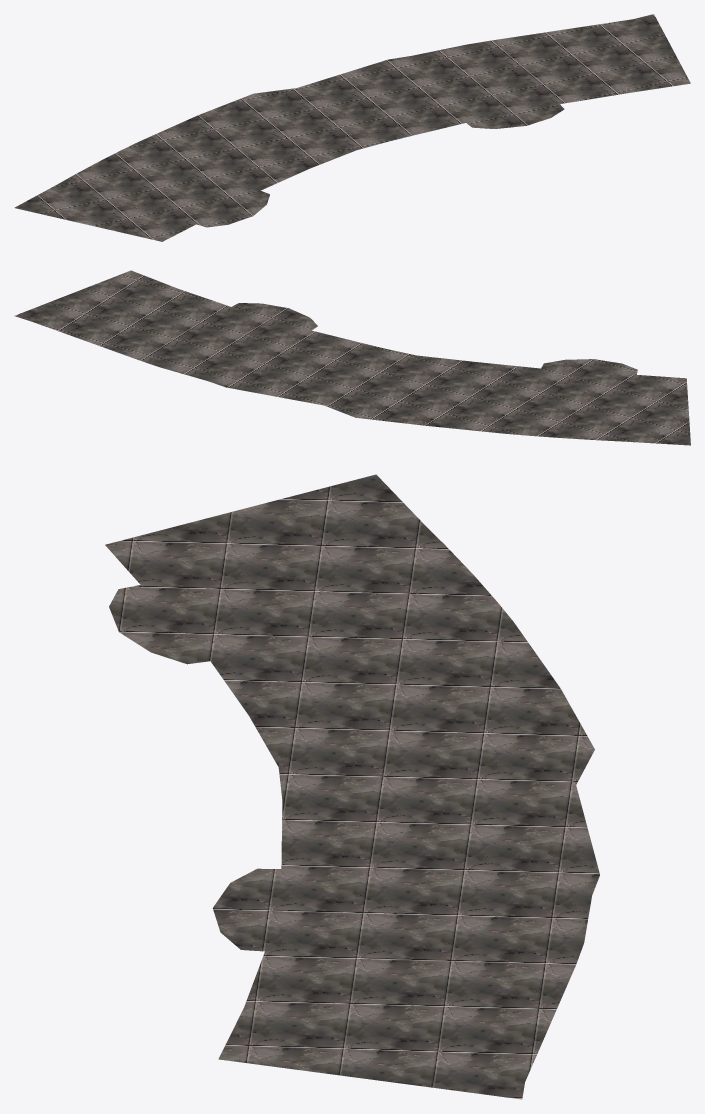
File: CH09_SMAUG_PLAYSURFACE_LAIR114.fbx
3 renders of one model, top to bottom at view 1: azimuth 30°, elevation 25°; view 2: azimuth 150°, elevation 25°; view 3: azimuth 270°, elevation 25°, orthographic. The views are drawn at different scales.
Visible parts, largest first — view 1: CH09_SMAUG_PLAYSURFACE_LAIR114; view 2: CH09_SMAUG_PLAYSURFACE_LAIR114; view 3: CH09_SMAUG_PLAYSURFACE_LAIR114.
Part boxes in pixels (left/top/right/bottom): CH09_SMAUG_PLAYSURFACE_LAIR114: left=14, top=14, right=690, bottom=241; CH09_SMAUG_PLAYSURFACE_LAIR114: left=14, top=270, right=690, bottom=445; CH09_SMAUG_PLAYSURFACE_LAIR114: left=105, top=474, right=599, bottom=1099.
Bounding box in the file's own units: 274486 × 298 × 91913.
Materials: 1 (1 with a texture image).
